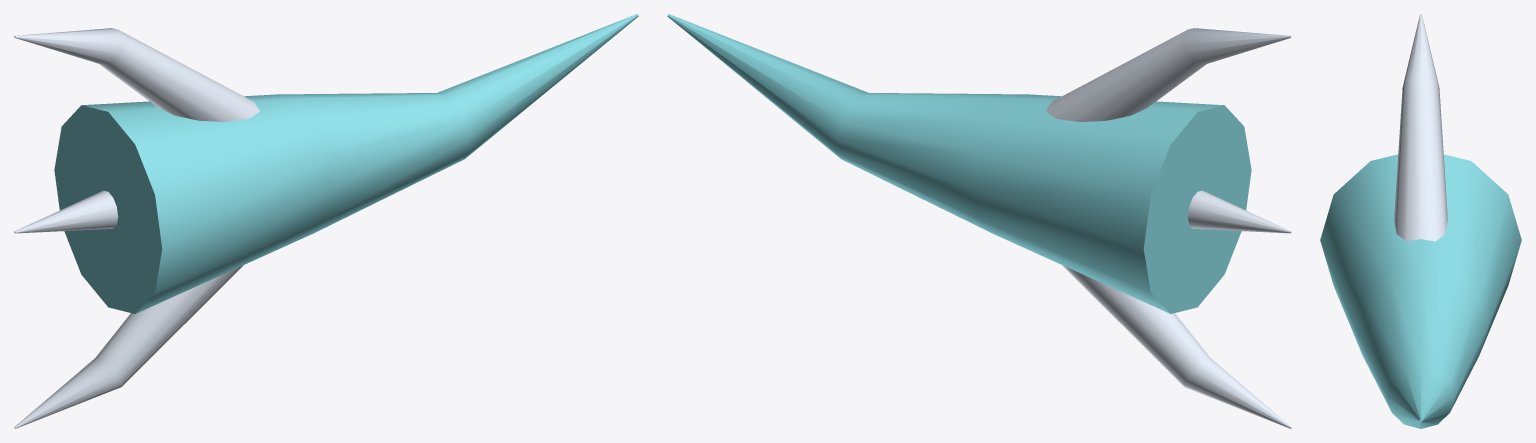
File: familiar_dragon_Tail.glb
The picture shows the model from 3 angles, left to right: view 1: azimuth 30°, elevation 25°; view 2: azimuth 150°, elevation 25°; view 3: azimuth 270°, elevation 25°; orthographic projection. The views are drawn at different scales.
Bounding box in the file's own units: 20.02 × 12.06 × 6.
